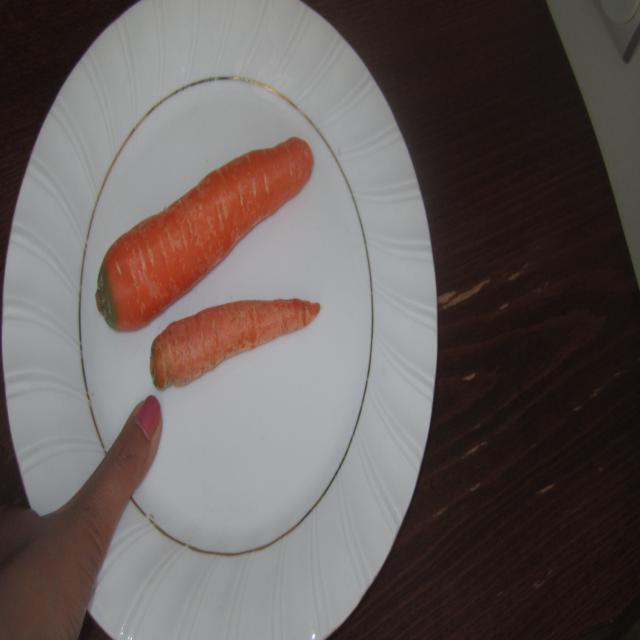carrot: (92, 139, 374, 393)
